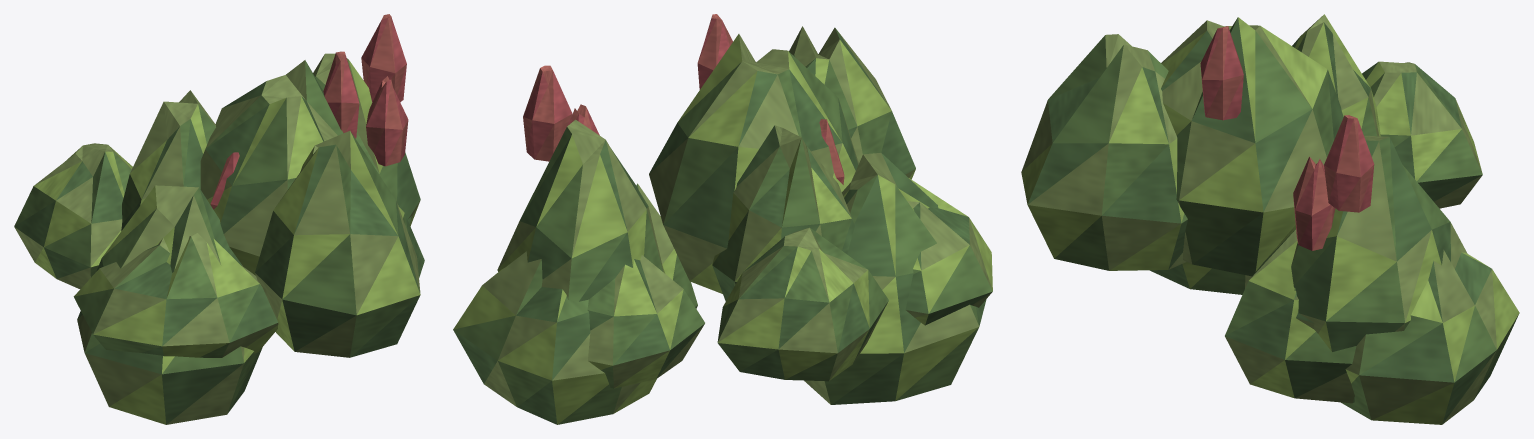
The model's file is bush_berry_01.fbx.
The picture shows the model from 3 angles, left to right: view 1: azimuth 30°, elevation 25°; view 2: azimuth 150°, elevation 25°; view 3: azimuth 270°, elevation 25°; orthographic projection. The views are drawn at different scales.
Visible parts, largest first — view 1: bush_berry_01; view 2: bush_berry_01; view 3: bush_berry_01.
Boxes of the visible parts, x1,y1,x2,y2 form: bush_berry_01: (14, 14, 424, 424); bush_berry_01: (453, 14, 992, 424); bush_berry_01: (1021, 14, 1519, 424).
Size of the model in its own units: 136 by 100 by 135.
Materials: 1 (1 with a texture image).
